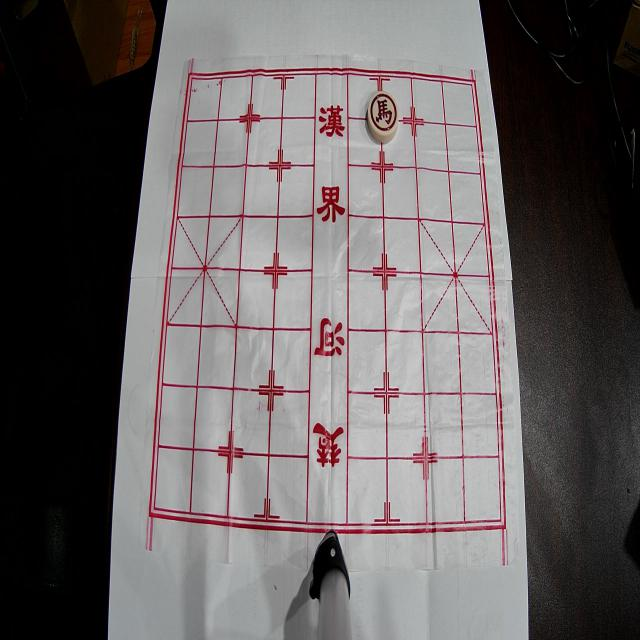red-horse: (368, 91, 398, 143)
